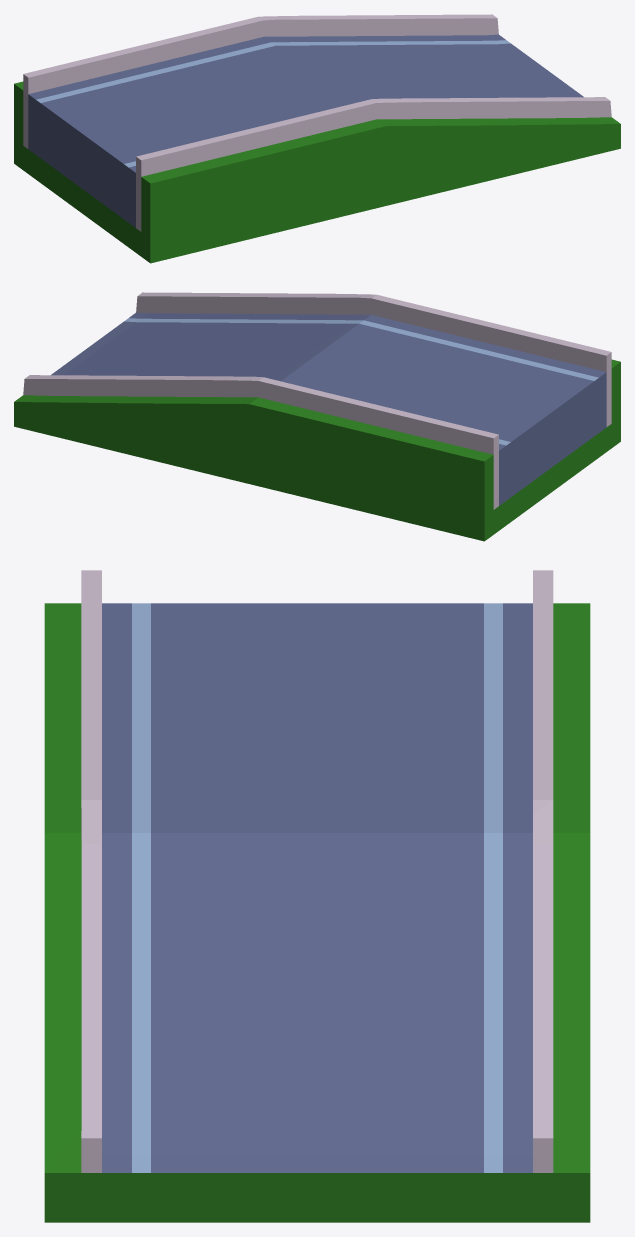
The model's file is Inclined Base + Higher Road.fbx.
The picture shows the model from 3 angles, top to bottom: view 1: azimuth 30°, elevation 25°; view 2: azimuth 150°, elevation 25°; view 3: azimuth 270°, elevation 25°; orthographic projection. The views are drawn at different scales.
Visible parts, largest first — view 1: Box010.001; view 2: Box010.001; view 3: Box010.001.
Boxes of the visible parts, x1,y1,x2,y2 form: Box010.001: (14,14,620,263); Box010.001: (14,292,620,541); Box010.001: (44,570,590,1222).
Bounding box in the file's own units: 100 × 19.67 × 50.47.
